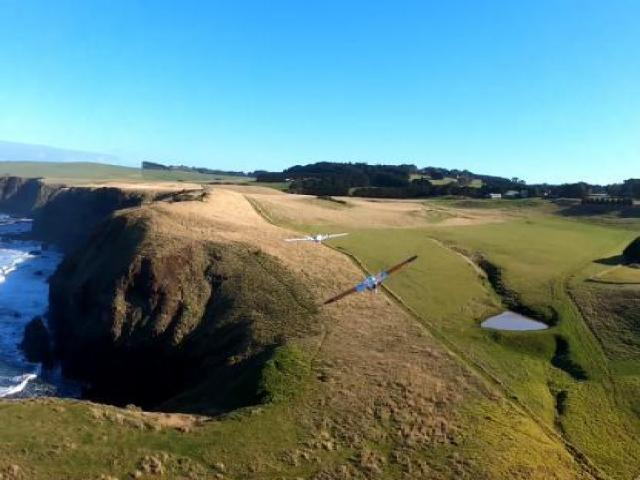uav: (320, 254, 418, 303), (284, 231, 350, 243)
